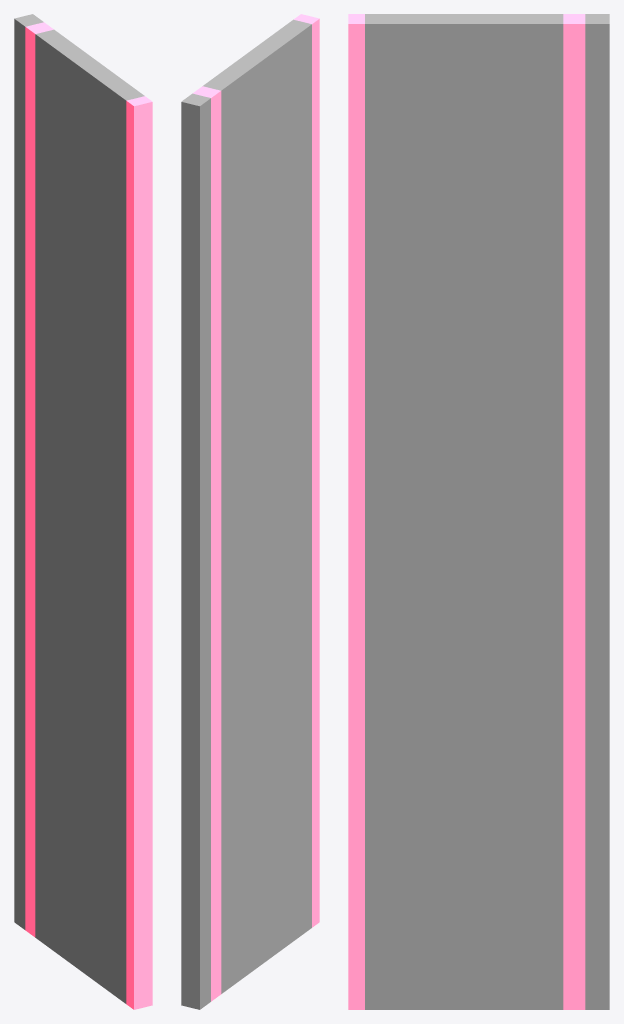
Rendered from Finish Doors Right.fbx.
3 renders of one model, left to right at view 1: azimuth 30°, elevation 25°; view 2: azimuth 150°, elevation 25°; view 3: azimuth 270°, elevation 25°, orthographic. The views are drawn at different scales.
Visible parts, largest first — view 1: Finish Doors Right; view 2: Finish Doors Right; view 3: Finish Doors Right.
Boxes of the visible parts, left/top/right/bottom form: Finish Doors Right: left=14, top=14, right=152, bottom=1009; Finish Doors Right: left=181, top=14, right=319, bottom=1009; Finish Doors Right: left=348, top=14, right=609, bottom=1009.
Bounding box in the file's own units: 5 × 230 × 55.44.
